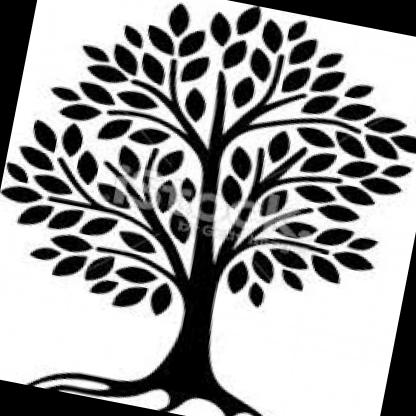root_only: (23, 338, 274, 416)
trunk_straight: (164, 293, 226, 369)
